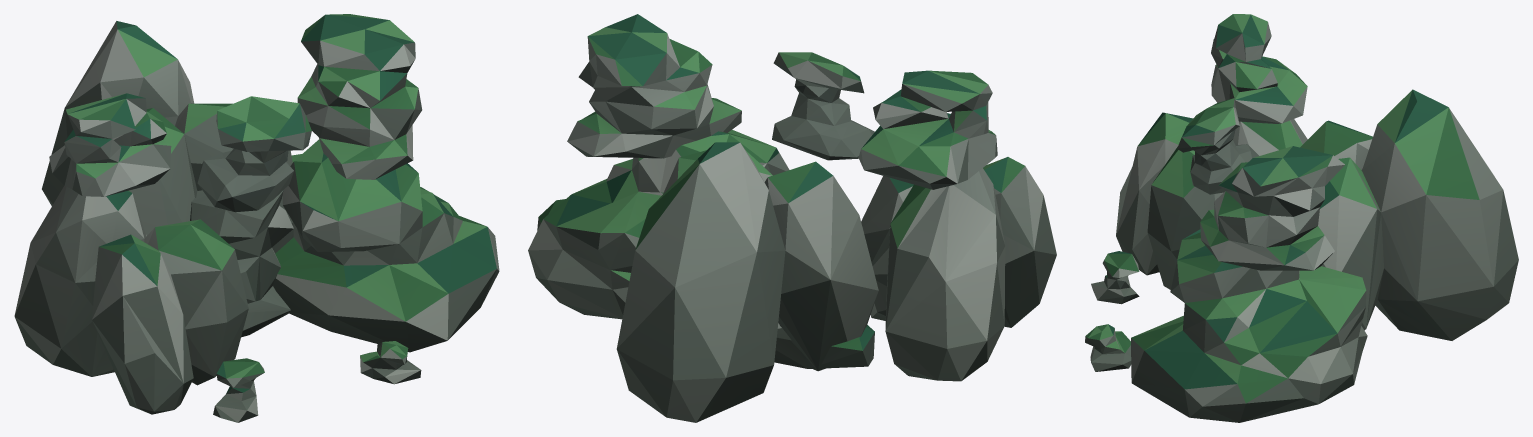
File: custom-cachoeira-grande-paredao.glb
3 renders of one model, left to right at view 1: azimuth 30°, elevation 25°; view 2: azimuth 150°, elevation 25°; view 3: azimuth 270°, elevation 25°, orthographic. The views are drawn at different scales.
Visible parts, largest first — view 1: cachoeira-grande-paredao; view 2: cachoeira-grande-paredao; view 3: cachoeira-grande-paredao.
Part boxes in pixels (x1=…): cachoeira-grande-paredao: x1=14, y1=14, x2=499, y2=422; cachoeira-grande-paredao: x1=528, y1=14, x2=1056, y2=422; cachoeira-grande-paredao: x1=1085, y1=14, x2=1518, y2=422.
Size of the model in its own units: 41.82 by 23.85 by 38.23.
